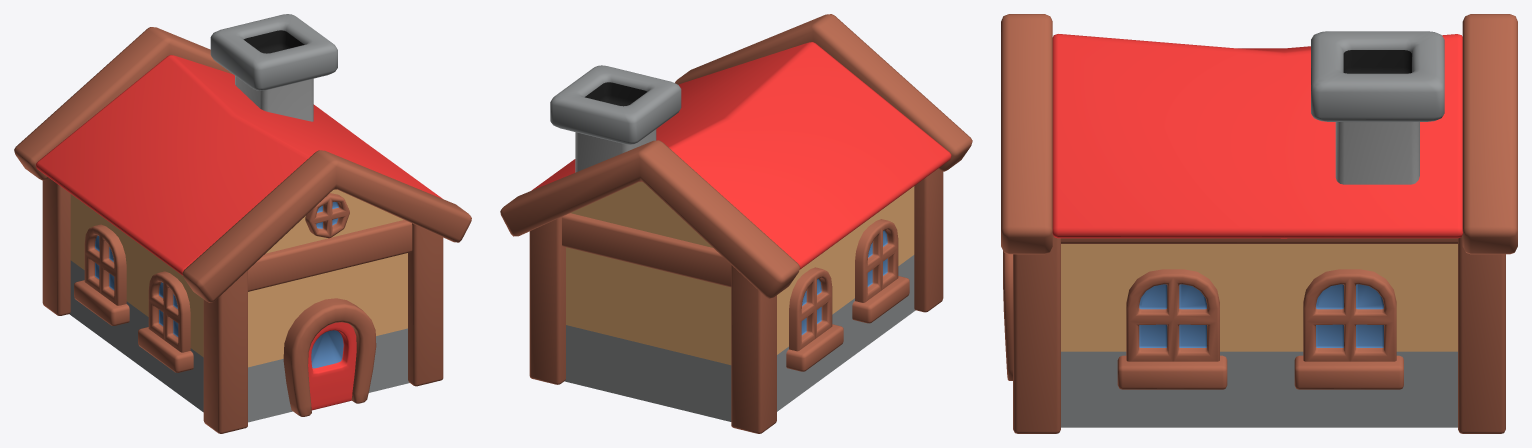
The model's file is house1.fbx.
The picture shows the model from 3 angles, left to right: view 1: azimuth 30°, elevation 25°; view 2: azimuth 150°, elevation 25°; view 3: azimuth 270°, elevation 25°; orthographic projection. The views are drawn at different scales.
Parts seen in each view (by area): view 1: house1; view 2: house1; view 3: house1.
Part boxes in pixels (x1=…): house1: x1=14, y1=14, x2=471, y2=433; house1: x1=500, y1=14, x2=972, y2=433; house1: x1=1001, y1=14, x2=1517, y2=433.
Size of the model in its own units: 274 by 243 by 322.
